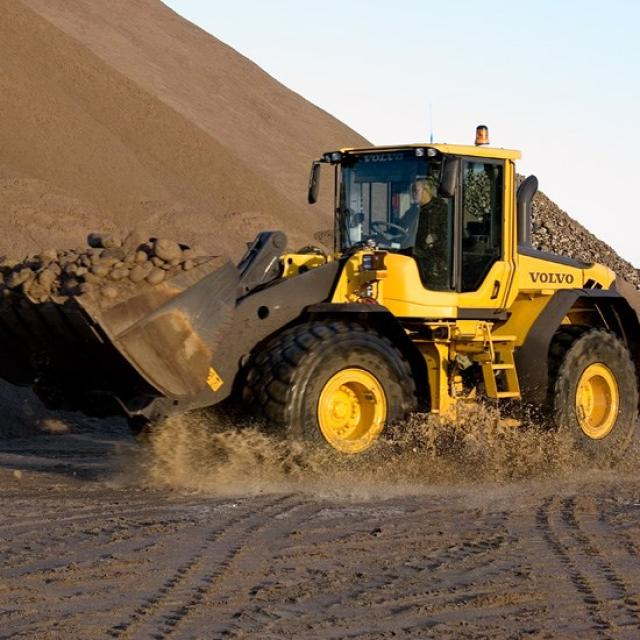buldozerpayloadergrader: (35, 127, 640, 466)
